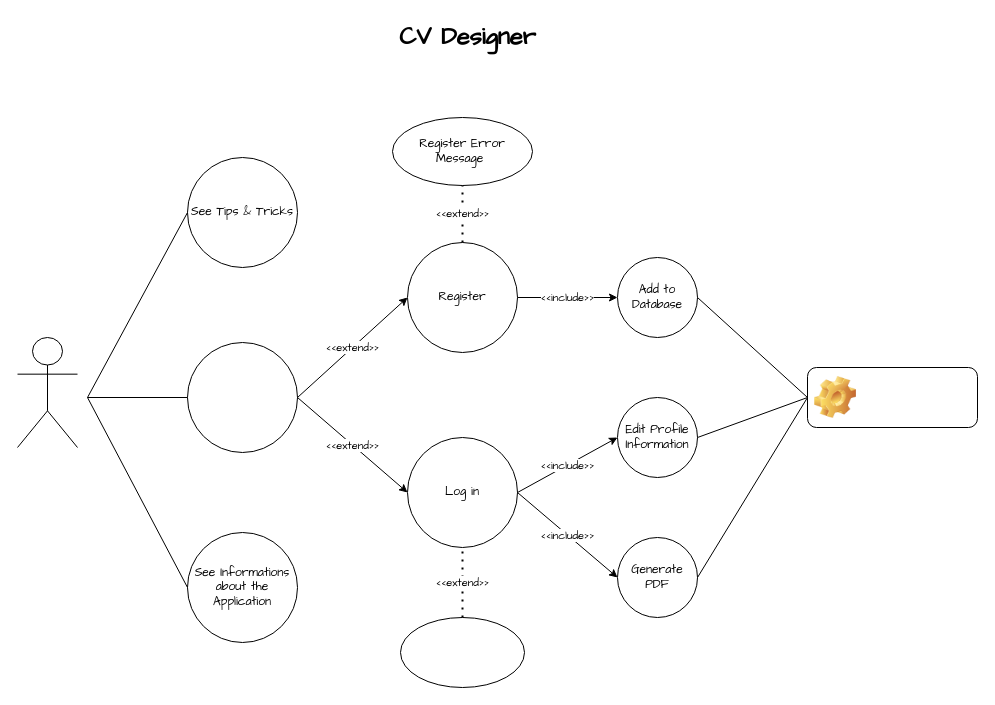
This 995x705 diagram has some shape labels left out. Each missing label, with the box of its shape:
Access the Start Page: (186, 342, 298, 452)
Application Server: (806, 366, 978, 428)
Log in Error Message: (400, 616, 524, 688)
User: (16, 336, 78, 448)
